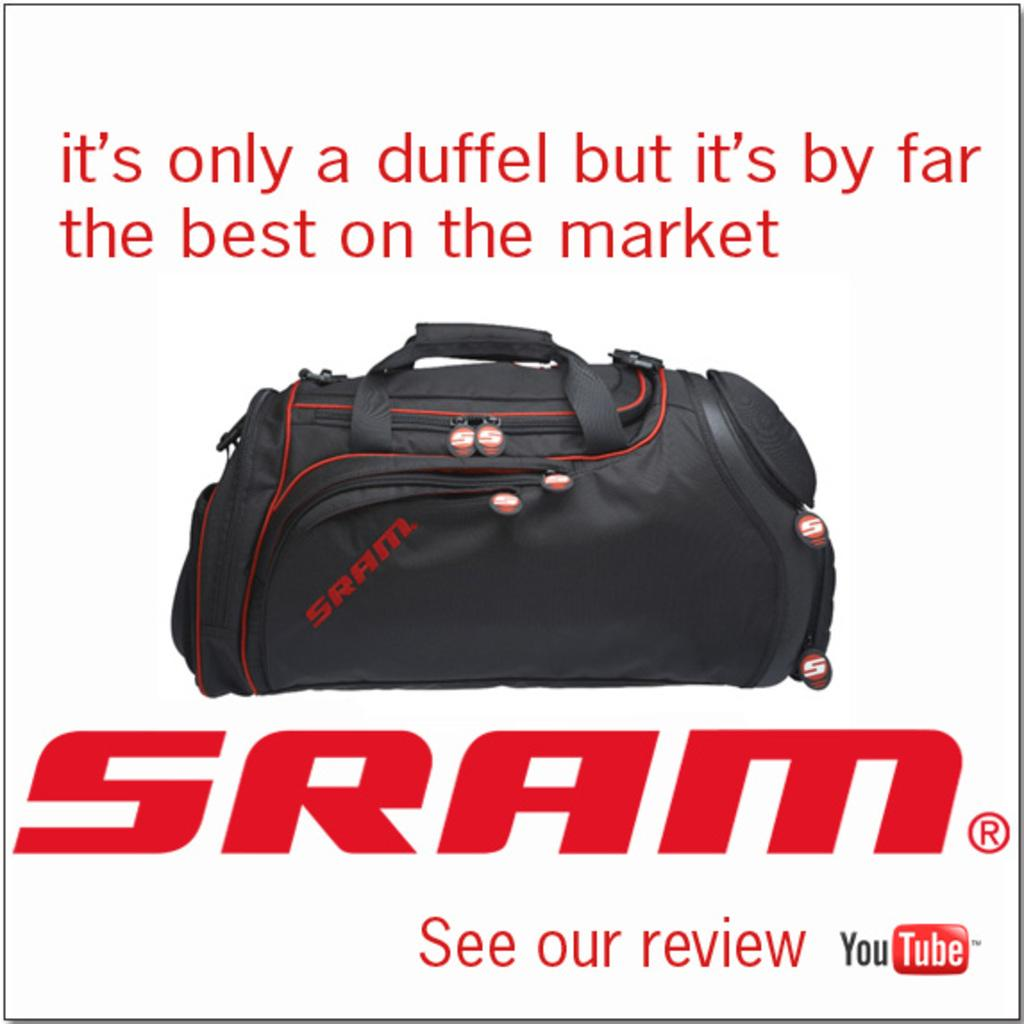Luggage-and-bags: (172, 313, 842, 686)
